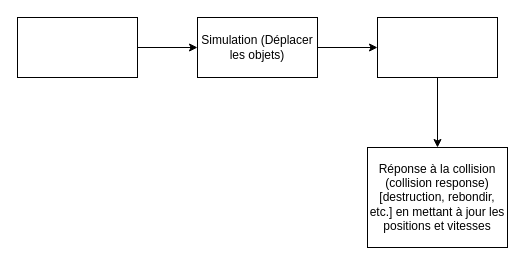
This 525x265 diagram has some shape labels left out. Here are the shapes that lost their labels. From the top down, the box of each, then its label:
(16, 16, 138, 78): Objets Monde
(376, 16, 498, 78): Détection de collision (Crée une liste des collisions)
